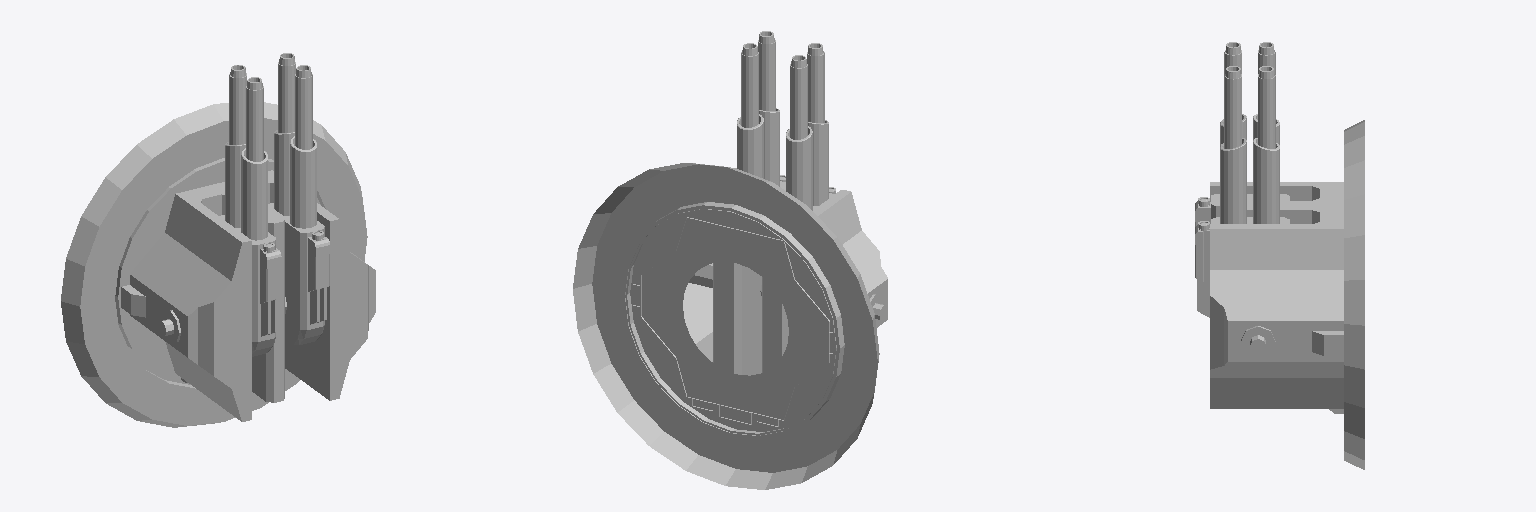
The model's file is turret1.obj.
3 renders of one model, left to right at view 1: azimuth 30°, elevation 25°; view 2: azimuth 150°, elevation 25°; view 3: azimuth 270°, elevation 25°, orthographic.
Parts seen in each view (by area): view 1: Sci_Fi_AA_Turret; view 2: Sci_Fi_AA_Turret; view 3: Sci_Fi_AA_Turret.
Part boxes in pixels (bbox=[...]): Sci_Fi_AA_Turret: bbox=[61, 53, 375, 427]; Sci_Fi_AA_Turret: bbox=[573, 31, 887, 489]; Sci_Fi_AA_Turret: bbox=[1195, 42, 1364, 469].
Bounding box in the file's own units: 274 × 341 × 132.